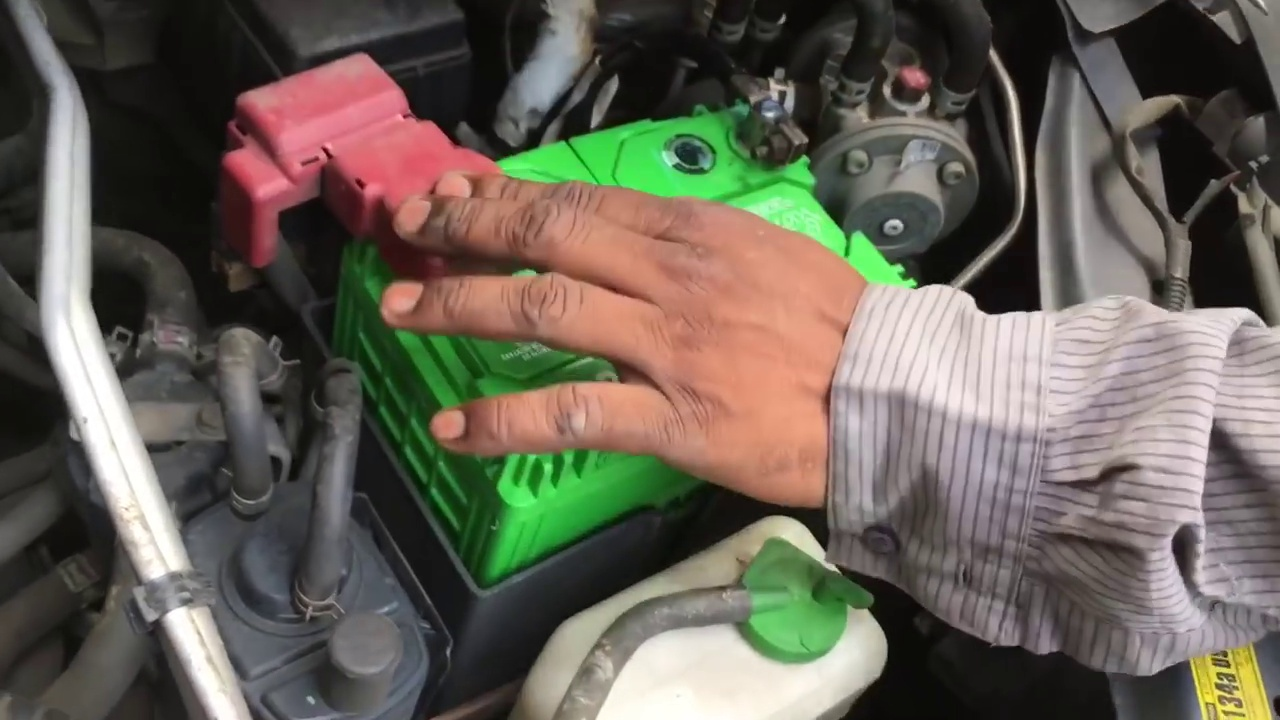battery: (349, 105, 922, 429)
neg_connected: (699, 48, 806, 169)
pos_touched: (223, 68, 526, 280)
